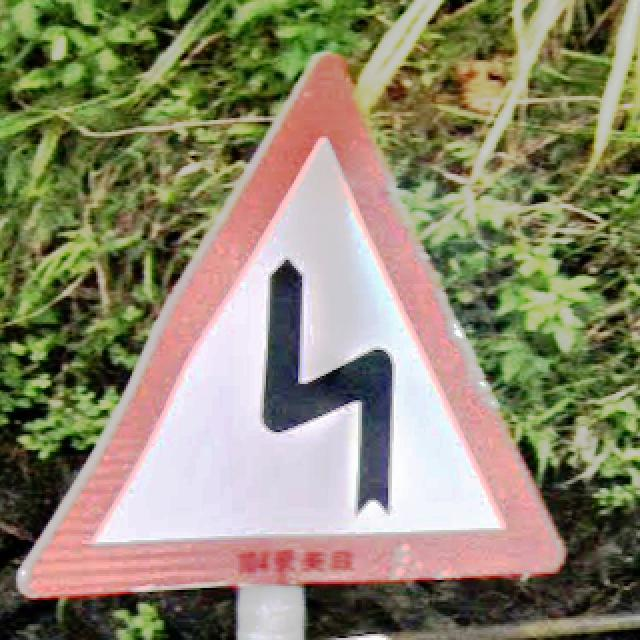doublebendleft: (22, 54, 566, 600)
